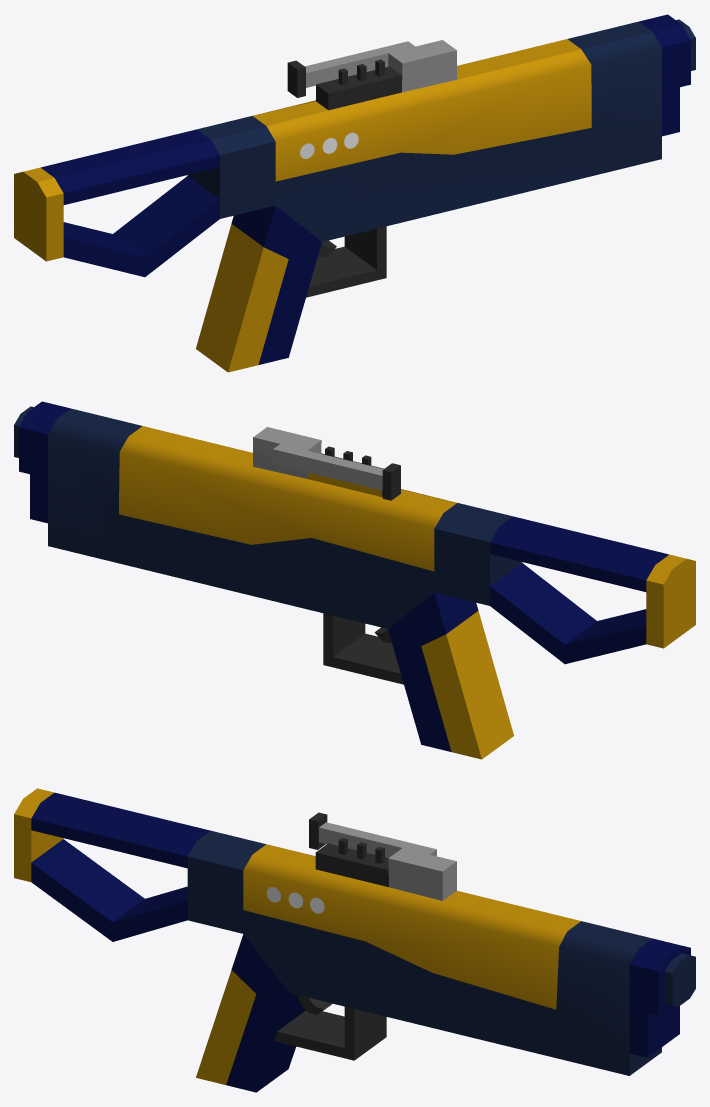
Rendered from arme5.FBX.
3 renders of one model, top to bottom at view 1: azimuth 30°, elevation 25°; view 2: azimuth 150°, elevation 25°; view 3: azimuth 330°, elevation 25°, orthographic.
Visible parts, largest first — view 1: Boîte001; view 2: Boîte001; view 3: Boîte001.
Boxes of the visible parts, <box> form: Boîte001: <box>14,14,695,372</box>; Boîte001: <box>14,401,695,759</box>; Boîte001: <box>14,788,695,1092</box>.
Bounding box in the file's own units: 79.91 × 30.88 × 7.38.
